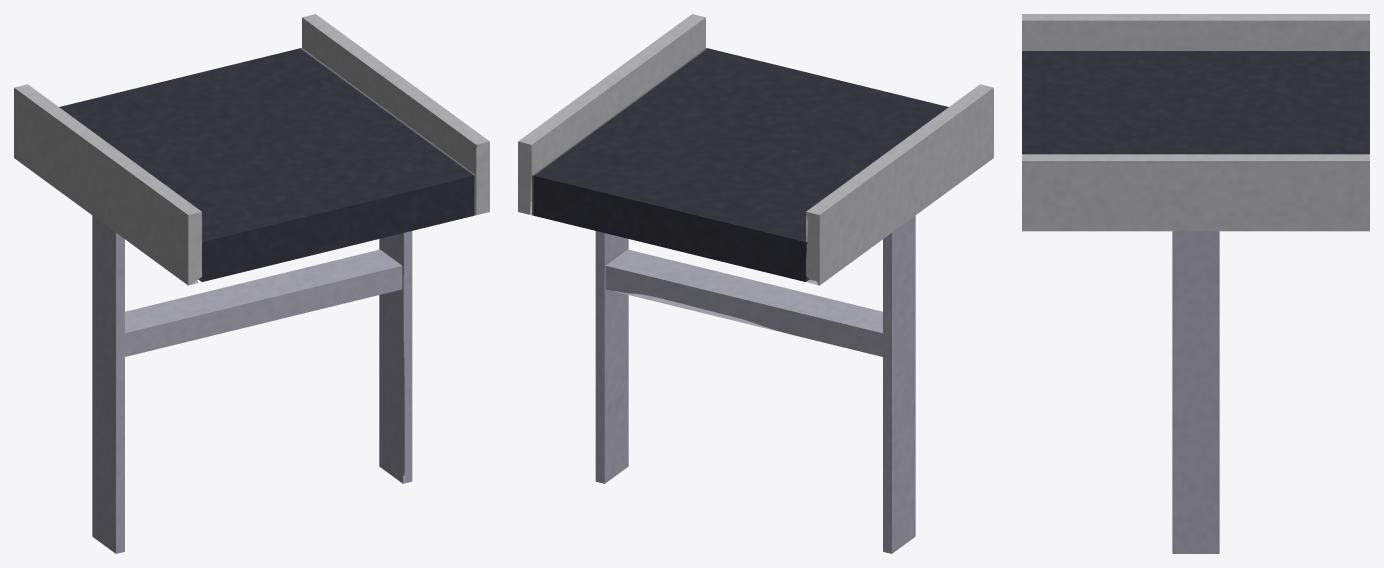
The model's file is Conveyor_straight.fbx.
The picture shows the model from 3 angles, left to right: view 1: azimuth 30°, elevation 25°; view 2: azimuth 150°, elevation 25°; view 3: azimuth 270°, elevation 25°; orthographic projection.
Parts seen in each view (by area): view 1: conv; view 2: conv; view 3: conv.
Part boxes in pixels (box(x1,y1,x2,y2)): conv: box(14, 14, 489, 553); conv: box(518, 14, 993, 553); conv: box(1022, 14, 1369, 553).
Size of the model in its own units: 100 by 125 by 100.
